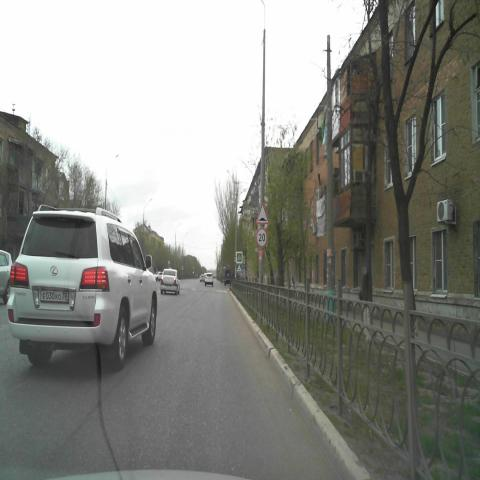1_17: (256, 202, 270, 224)
3_24: (256, 227, 268, 247)
5_19_1: (236, 251, 243, 263)
5_20: (236, 264, 242, 272)
